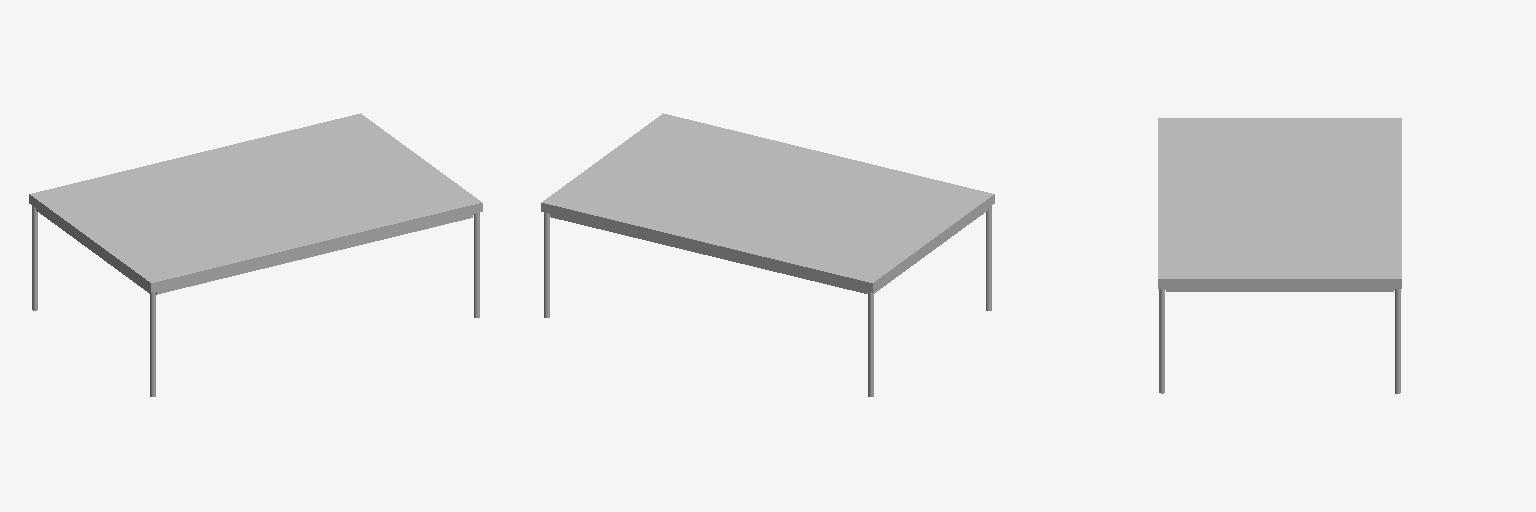
The model's file is Table.obj.
3 renders of one model, left to right at view 1: azimuth 30°, elevation 25°; view 2: azimuth 150°, elevation 25°; view 3: azimuth 270°, elevation 25°, orthographic.
Parts seen in each view (by area): view 1: Cube; view 2: Cube; view 3: Cube.
Boxes of the visible parts, <box> form: Cube: <box>29,113,482,396</box>; Cube: <box>541,113,994,396</box>; Cube: <box>1158,118,1401,393</box>.
Size of the model in its own units: 1.59 by 0.5293 by 1.01.